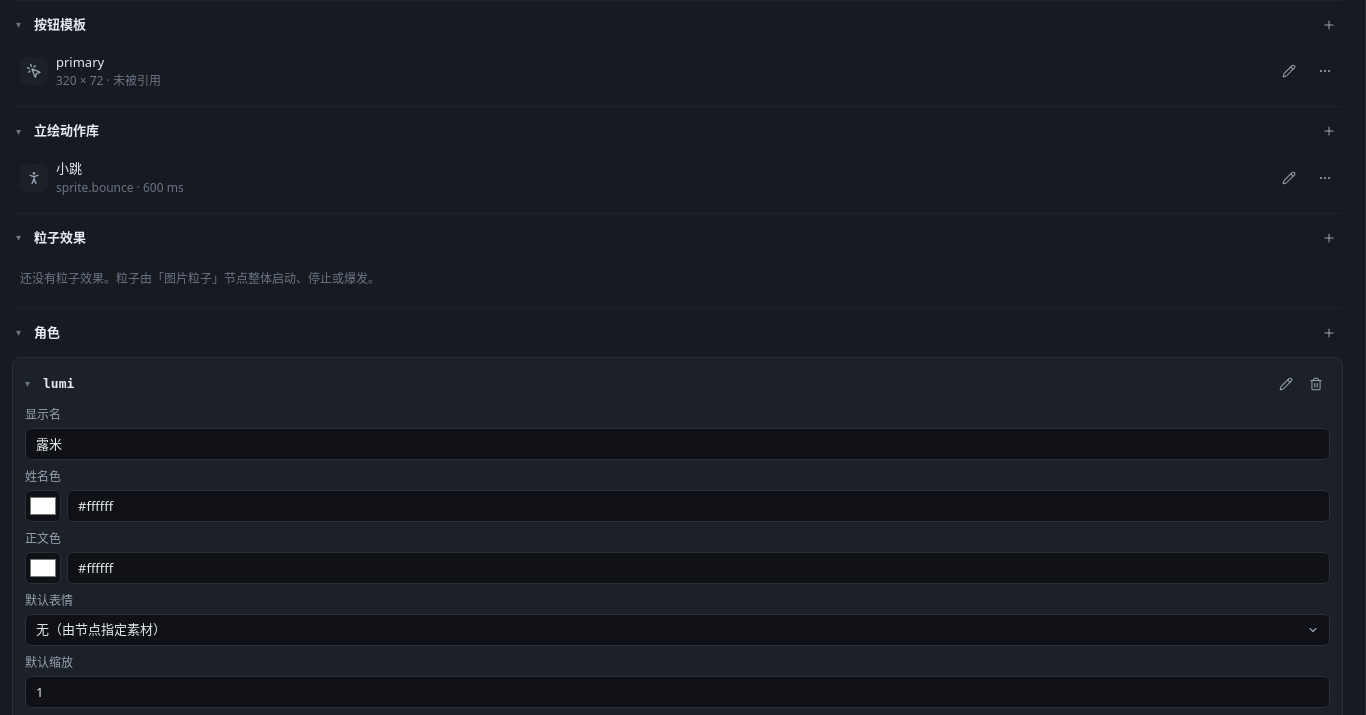
project panel sections › collapses characters and variables independently
(page scrolled)
Click the button with aria-label "收起角色 lumi": (59, 383) 25,374 -> 1268,393
(page scrolled)
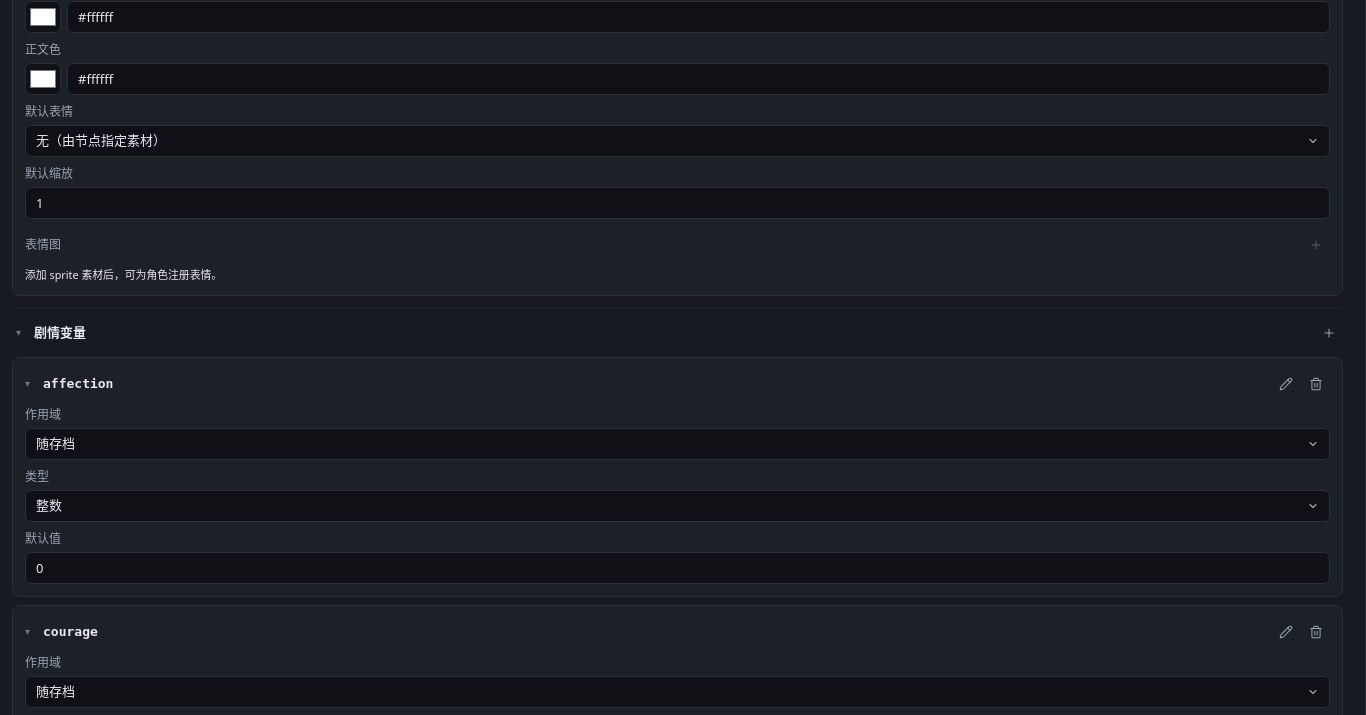
Click the button with aria-label "收起变量 affection": (78, 383) 25,374 -> 1268,394
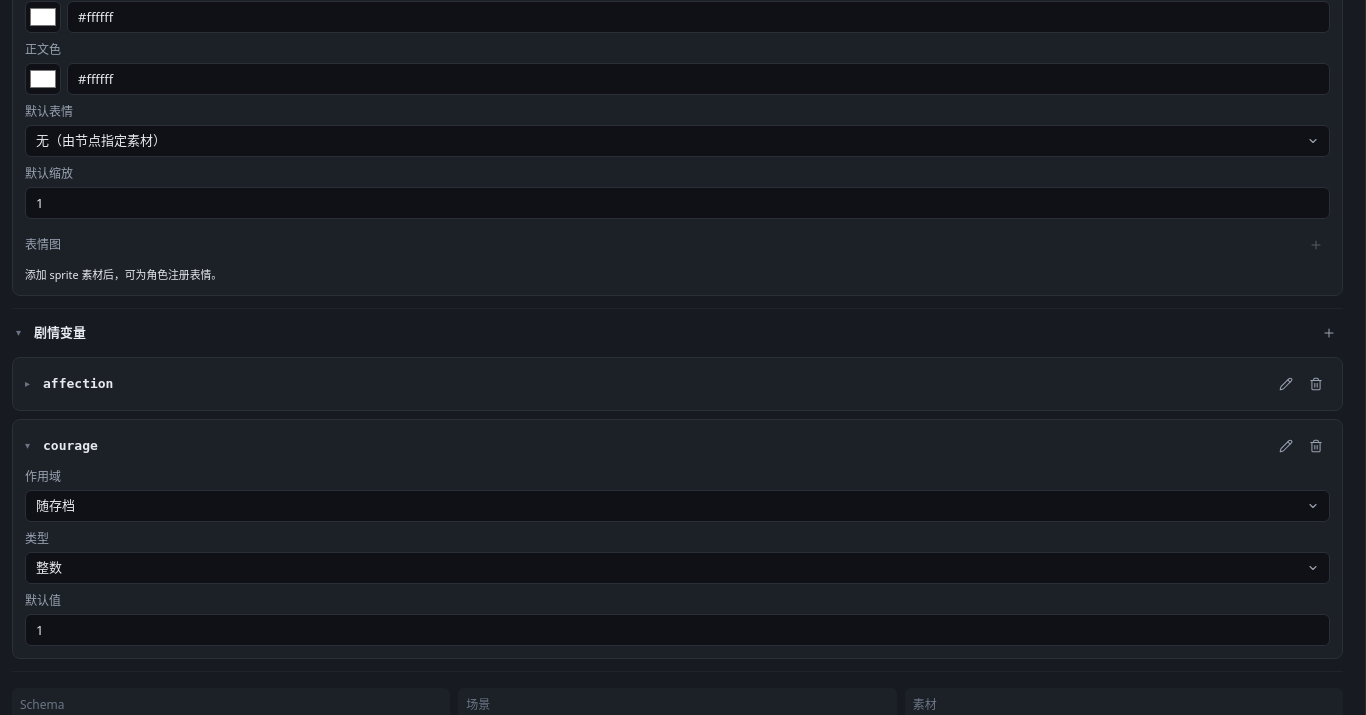
Expected: the button named "收起变量 affection" is collapsed, 25,374 -> 1268,394
